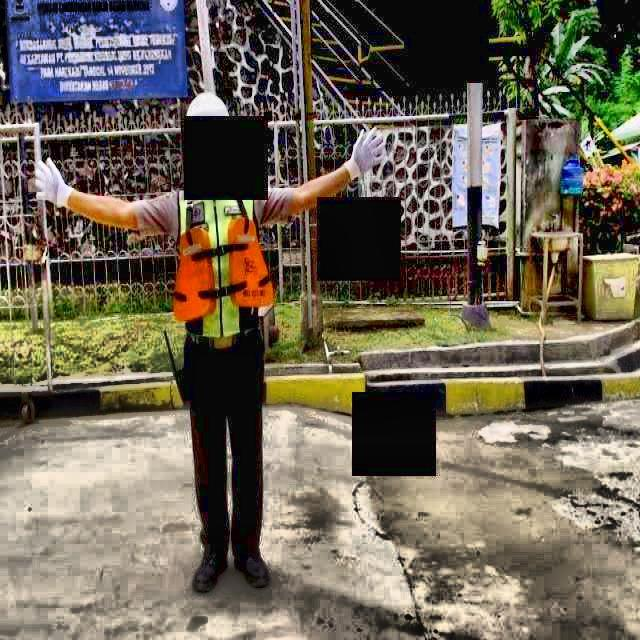safety_helmet: (184, 91, 233, 142)
safety_jacket: (174, 178, 273, 339)
